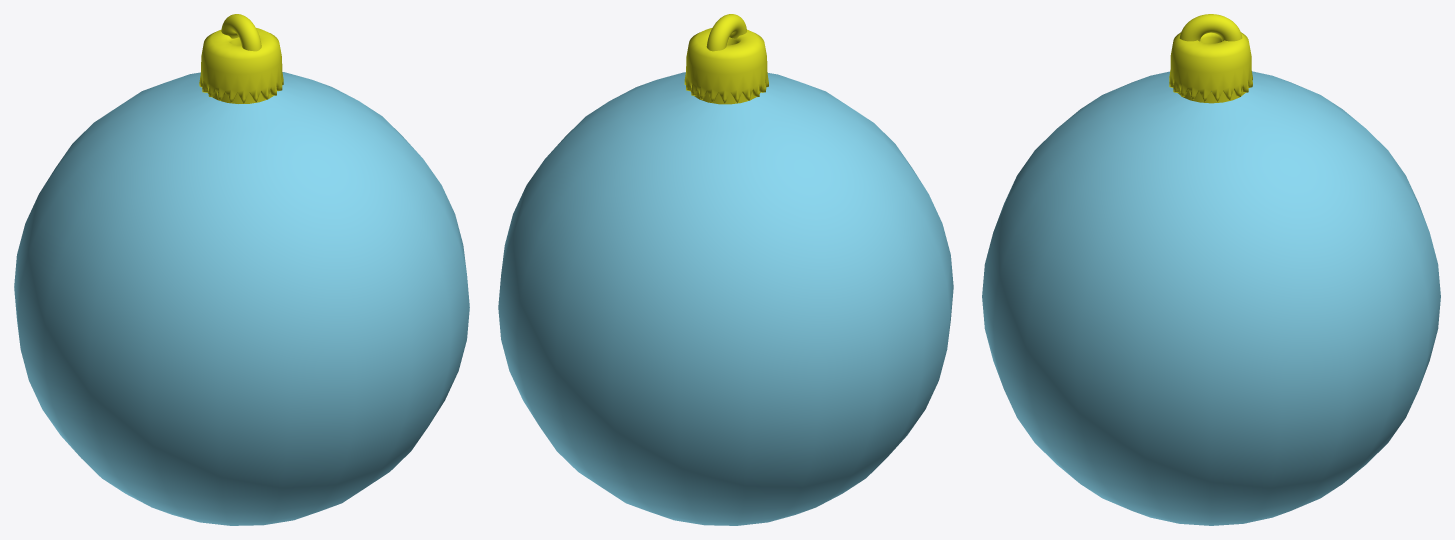
File: Foco.obj
3 views of the same model, side by side, from view 1: azimuth 30°, elevation 25°; view 2: azimuth 150°, elevation 25°; view 3: azimuth 270°, elevation 25° (orthographic).
Parts seen in each view (by area): view 1: Foco.001, Foco; view 2: Foco.001, Foco; view 3: Foco.001, Foco.
Boxes of the visible parts, x1,y1,x2,y2 form: Foco.001: (14,72,469,525); Foco: (199,14,283,103); Foco.001: (498,72,953,525); Foco: (684,14,768,104); Foco.001: (982,71,1440,525); Foco: (1169,14,1252,103).
Size of the model in its own units: 13.51 by 15.9 by 13.51.
